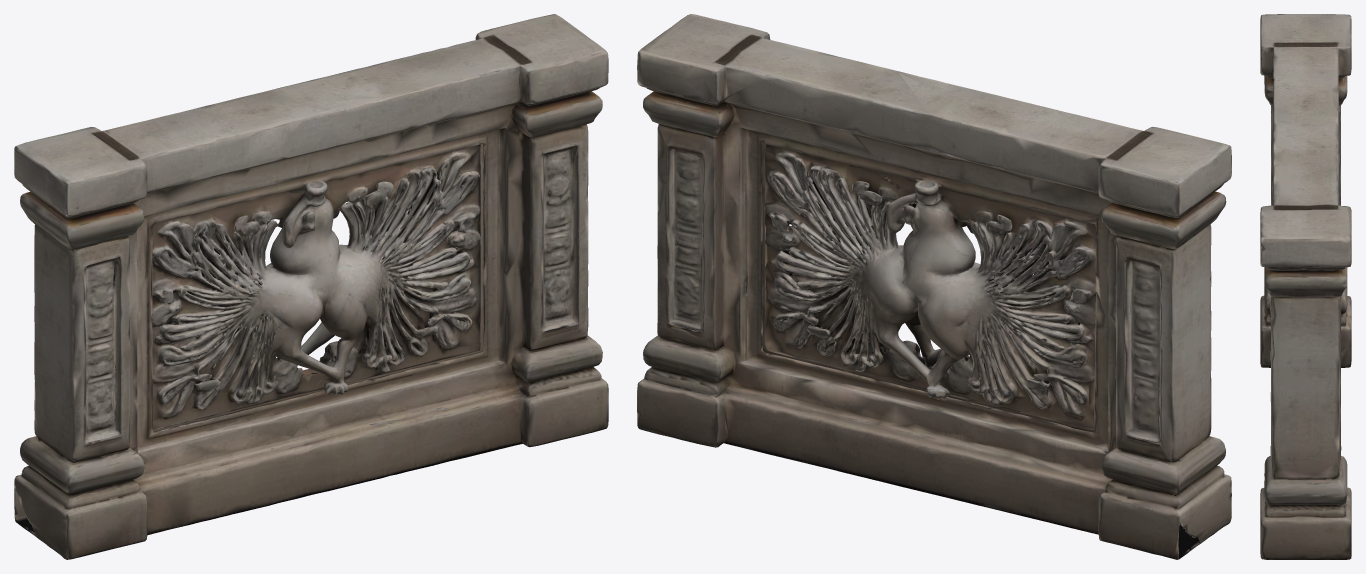
The model's file is sandstone-wall-panel-peacock-line-art-optimized.glb.
The picture shows the model from 3 angles, left to right: view 1: azimuth 30°, elevation 25°; view 2: azimuth 150°, elevation 25°; view 3: azimuth 270°, elevation 25°; orthographic projection. The views are drawn at different scales.
Parts seen in each view (by area): view 1: world; view 2: world; view 3: world.
Boxes of the visible parts, box(x1,y1,x2,y2) form: world: box(14, 14, 608, 559); world: box(637, 14, 1231, 559); world: box(1260, 14, 1351, 559).
Size of the model in its own units: 3 by 2 by 0.5137.
Materials: 1 (1 with a texture image).
